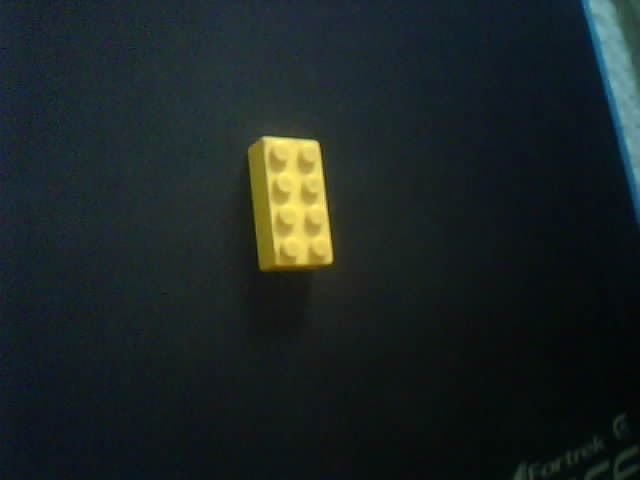lego: (246, 134, 334, 273)
